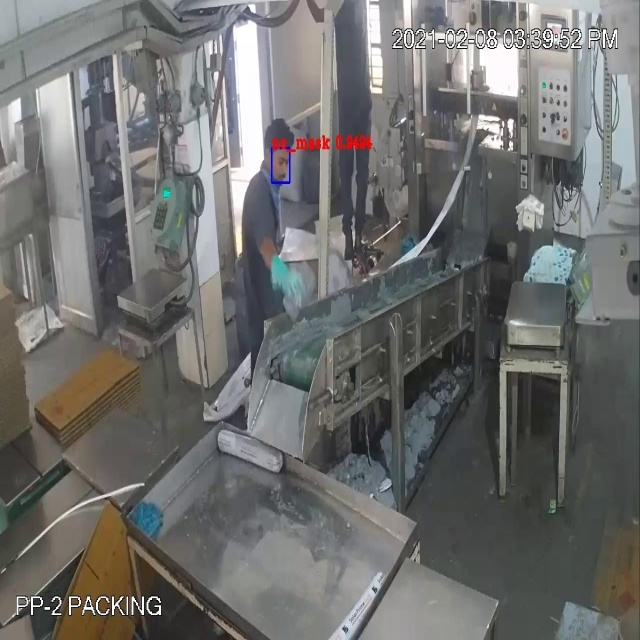Guantes: (256, 232, 312, 315)
